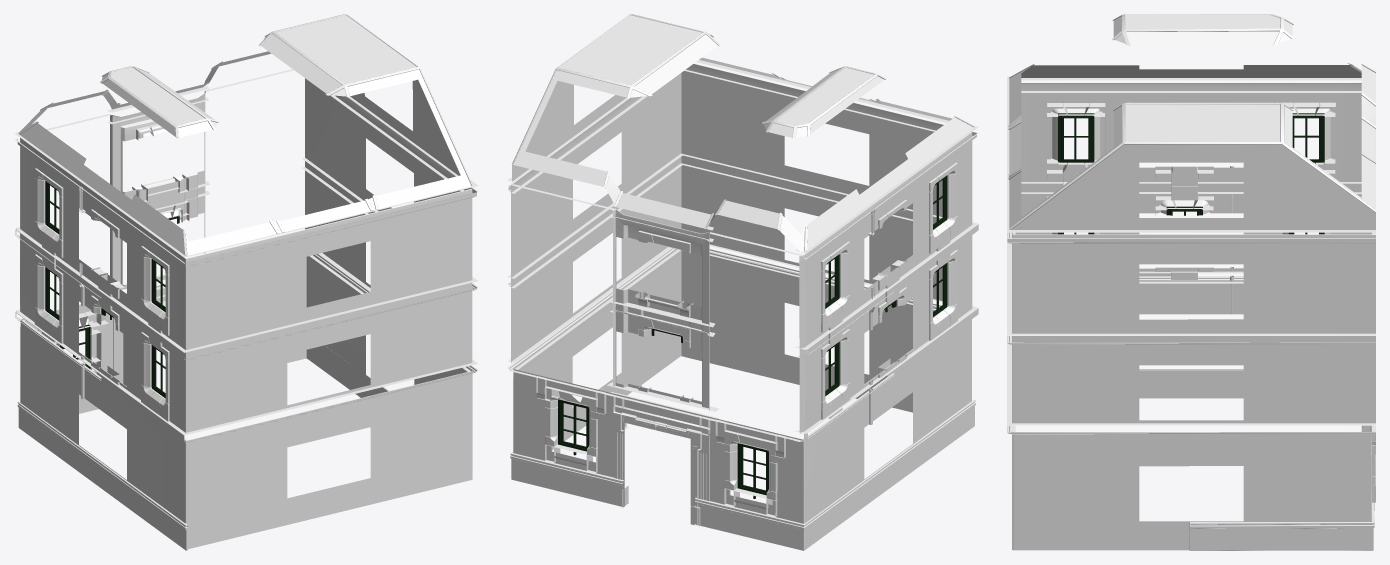
Rendered from B_BuildingCourtyard.obj.
3 renders of one model, left to right at view 1: azimuth 30°, elevation 25°; view 2: azimuth 150°, elevation 25°; view 3: azimuth 270°, elevation 25°, orthographic. The views are drawn at different scales.
Parts seen in each view (by area): view 1: B_BuildingCourtyard_m4, B_BuildingCourtyard_m5, B_BuildingCourtyard_m0, B_BuildingCourtyard_m2, B_BuildingCourtyard_m3, B_BuildingCourtyard_m1; view 2: B_BuildingCourtyard_m4, B_BuildingCourtyard_m0, B_BuildingCourtyard_m5, B_BuildingCourtyard_m2, B_BuildingCourtyard_m1, B_BuildingCourtyard_m3; view 3: B_BuildingCourtyard_m4, B_BuildingCourtyard_m5, B_BuildingCourtyard_m2, B_BuildingCourtyard_m0, B_BuildingCourtyard_m3, B_BuildingCourtyard_m1.
Part boxes in pixels (x1,y1,x2,y2): B_BuildingCourtyard_m4: (20, 161, 472, 549); B_BuildingCourtyard_m5: (20, 69, 472, 349); B_BuildingCourtyard_m0: (14, 86, 478, 550); B_BuildingCourtyard_m2: (20, 15, 472, 256); B_BuildingCourtyard_m3: (18, 14, 472, 399); B_BuildingCourtyard_m1: (45, 181, 179, 398); B_BuildingCourtyard_m4: (511, 155, 972, 523); B_BuildingCourtyard_m0: (507, 60, 978, 550); B_BuildingCourtyard_m5: (511, 64, 972, 350); B_BuildingCourtyard_m2: (512, 15, 974, 251); B_BuildingCourtyard_m1: (558, 175, 947, 498); B_BuildingCourtyard_m3: (511, 14, 974, 424); B_BuildingCourtyard_m4: (1012, 183, 1375, 550); B_BuildingCourtyard_m5: (1012, 83, 1375, 333); B_BuildingCourtyard_m2: (1009, 15, 1375, 229); B_BuildingCourtyard_m0: (1007, 76, 1375, 550); B_BuildingCourtyard_m3: (1008, 14, 1375, 314); B_BuildingCourtyard_m1: (1058, 113, 1324, 234).
Bounding box in the file's own units: 10.6 × 12.92 × 10.6.
